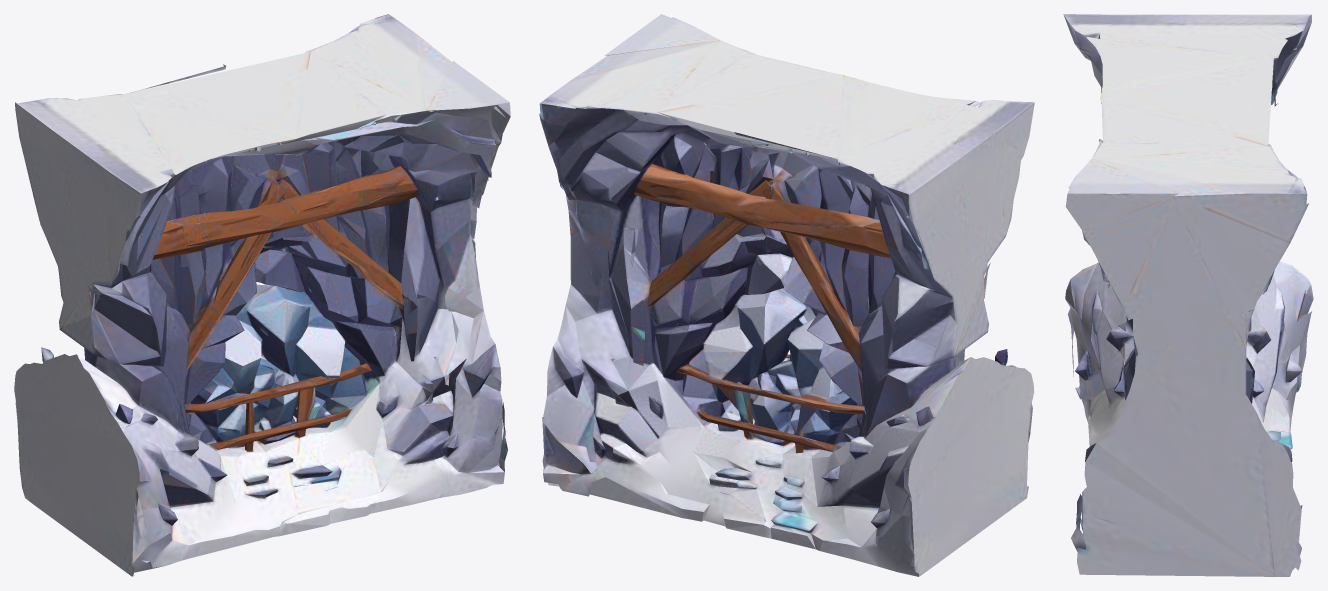
File: crystal_mine.glb
3 views of the same model, side by side, from view 1: azimuth 30°, elevation 25°; view 2: azimuth 150°, elevation 25°; view 3: azimuth 270°, elevation 25° (orthographic).
Size of the model in its own units: 1.9 by 1.92 by 1.12.
Materials: 1 (1 with a texture image).
